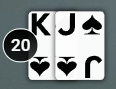j: (55, 10, 79, 39)
k: (26, 10, 54, 39)
